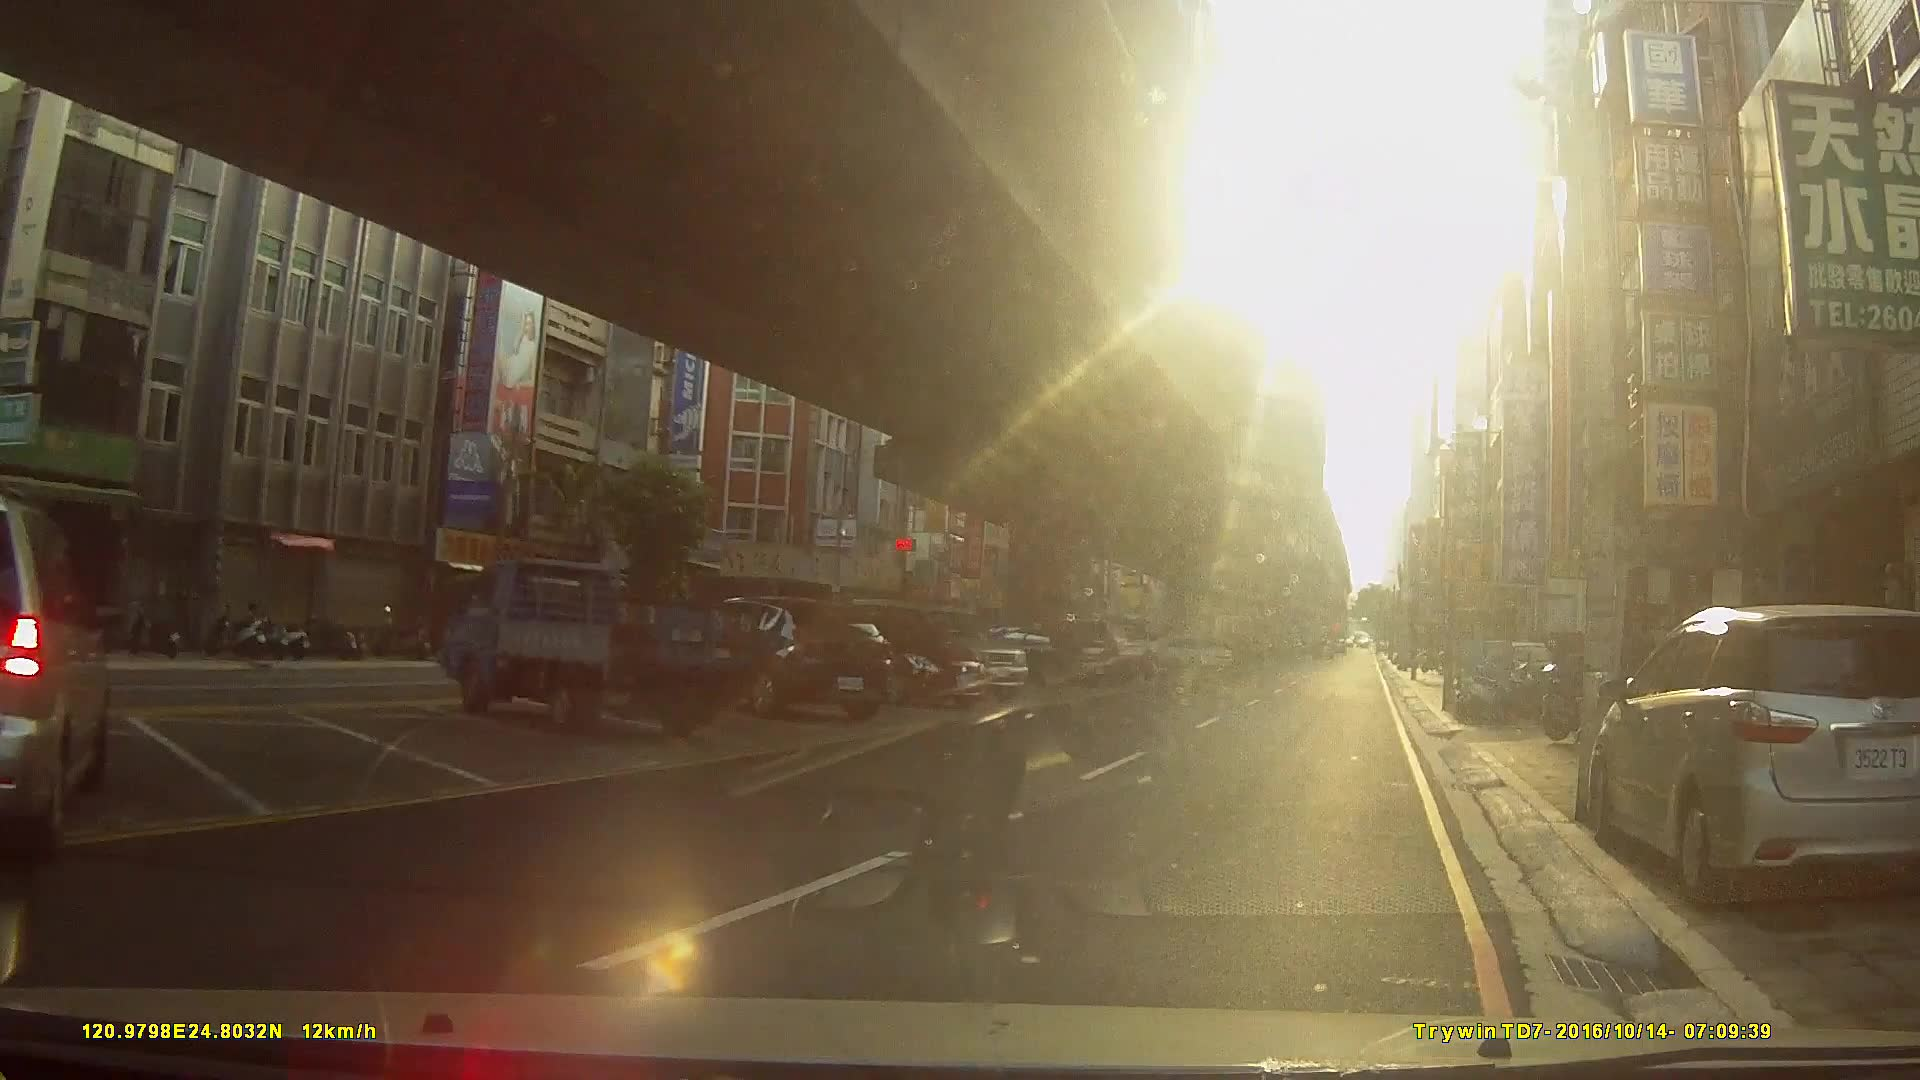vehicle: (1585, 601, 1920, 898), (434, 556, 758, 738), (0, 496, 113, 856), (688, 593, 891, 720), (812, 608, 985, 704), (953, 625, 1098, 684)
